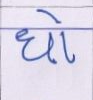e_matra: (36, 9, 65, 25)
